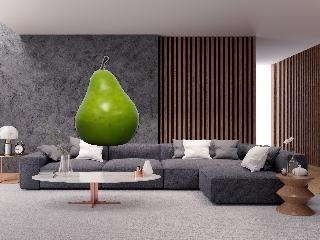pear: (70, 51, 146, 148)
